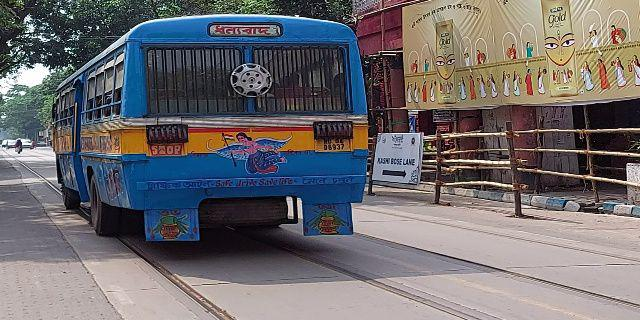Bus: (46, 13, 370, 254)
